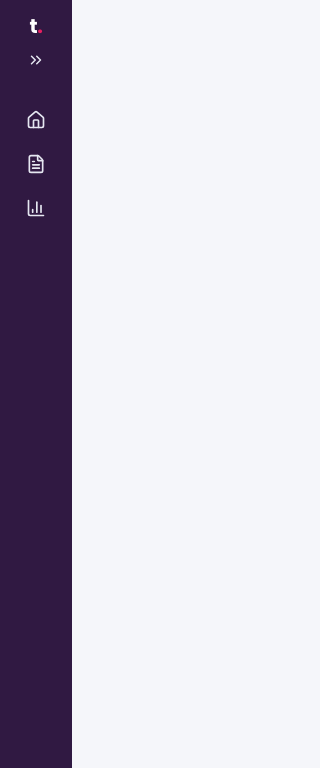
LeftMenu › reveals the label in a tooltip on hover when collapsed
The width and height of the screenshot is (320, 768).
Hover over the link named "Nábory".
mouse_move(36, 164)  # box [8,144,64,184]
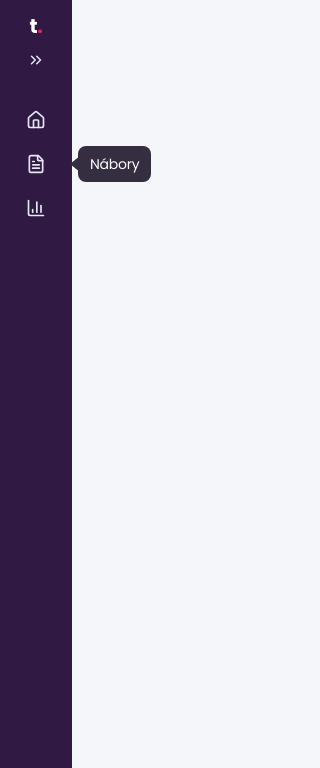
Expected: the tooltip reads "Nábory", [90,154,139,174]
